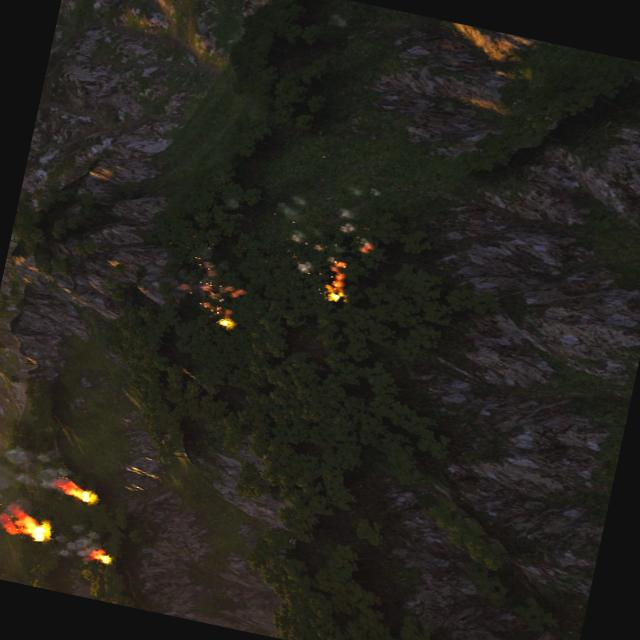fire: (192, 280, 246, 331), (316, 257, 354, 305), (7, 511, 53, 544), (60, 479, 98, 503), (90, 547, 114, 563)
smoke: (0, 433, 79, 541), (56, 522, 108, 566)
